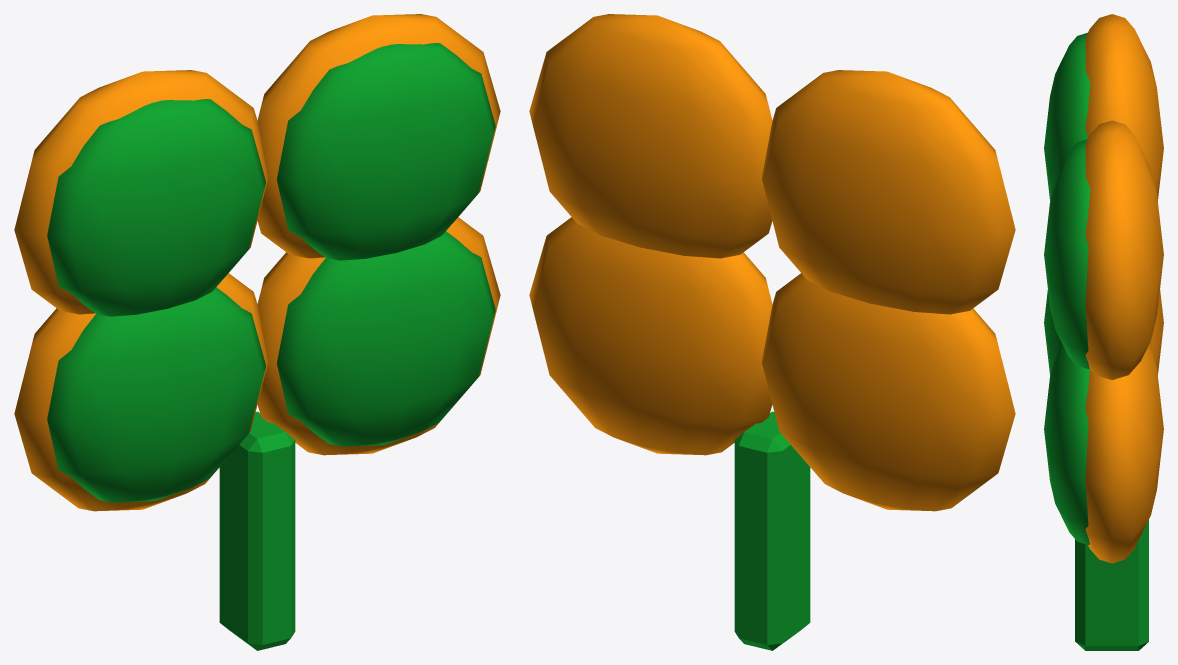
Rendered from PWR_luck__v001__model.fbx.
3 views of the same model, side by side, from view 1: azimuth 30°, elevation 25°; view 2: azimuth 150°, elevation 25°; view 3: azimuth 270°, elevation 25° (orthographic). The views are drawn at different scales.
Parts seen in each view (by area): view 1: PWR_luck_Mesh; view 2: PWR_luck_Mesh; view 3: PWR_luck_Mesh.
Boxes of the visible parts, x1=… form: PWR_luck_Mesh: x1=14, y1=14, x2=500, y2=650; PWR_luck_Mesh: x1=529, y1=14, x2=1015, y2=650; PWR_luck_Mesh: x1=1044, y1=14, x2=1163, y2=650.
Size of the model in its own units: 0.72 by 0.84 by 0.162.
1 material, 1 textured.
